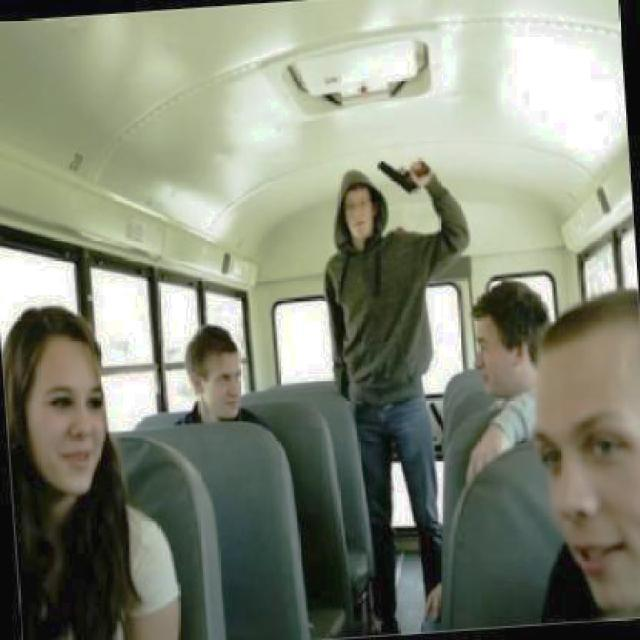Gun: (378, 155, 438, 204)
